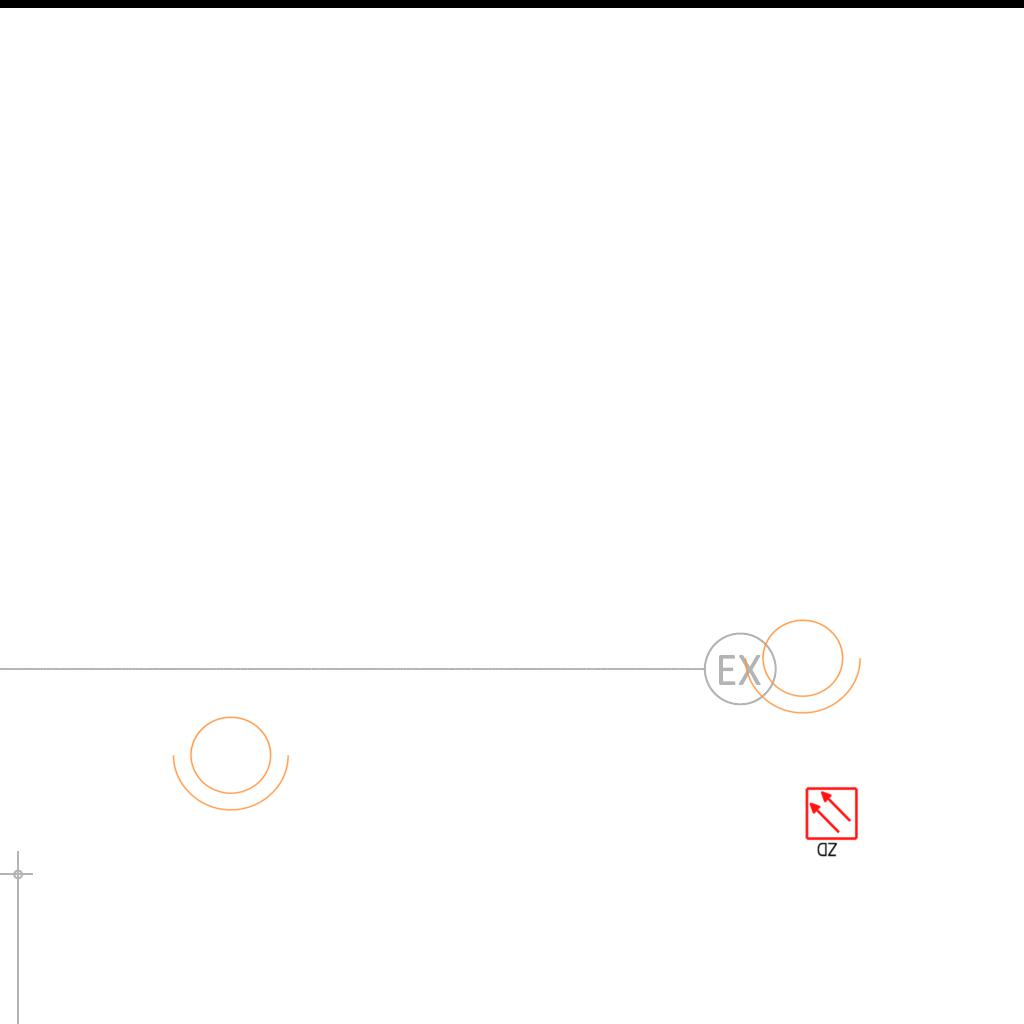Scheinwerfer_fuer_Alarmbeleuchtung: (168, 704, 300, 816), (740, 607, 872, 719)
ZD_Melder_in_Zwischendecke_mit_Revisionsoeffnung_mind_40_x_40_cm: (804, 786, 861, 860)
